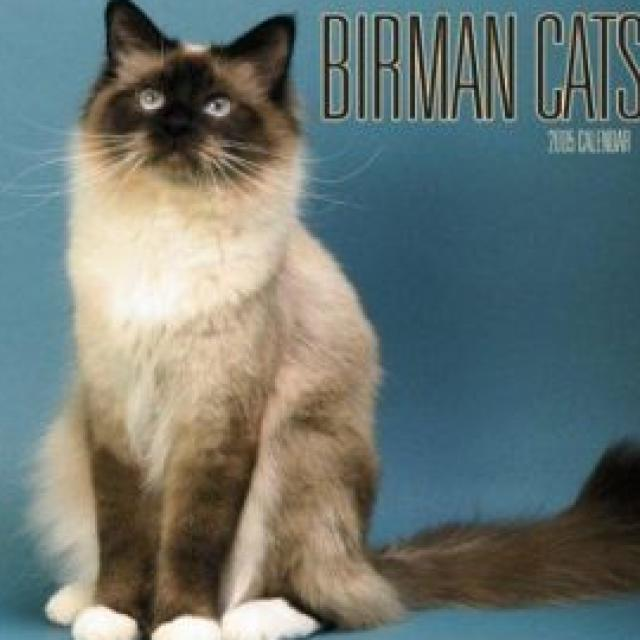Birman: (21, 0, 640, 640)
